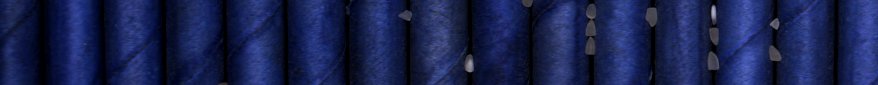broken_grain: (644, 4, 661, 29), (765, 44, 785, 64), (583, 36, 599, 59), (705, 49, 720, 73), (706, 26, 722, 48), (582, 2, 598, 22), (583, 19, 598, 39), (398, 7, 413, 24), (768, 15, 780, 31)
milky_grain: (464, 52, 476, 77), (709, 2, 720, 27)
